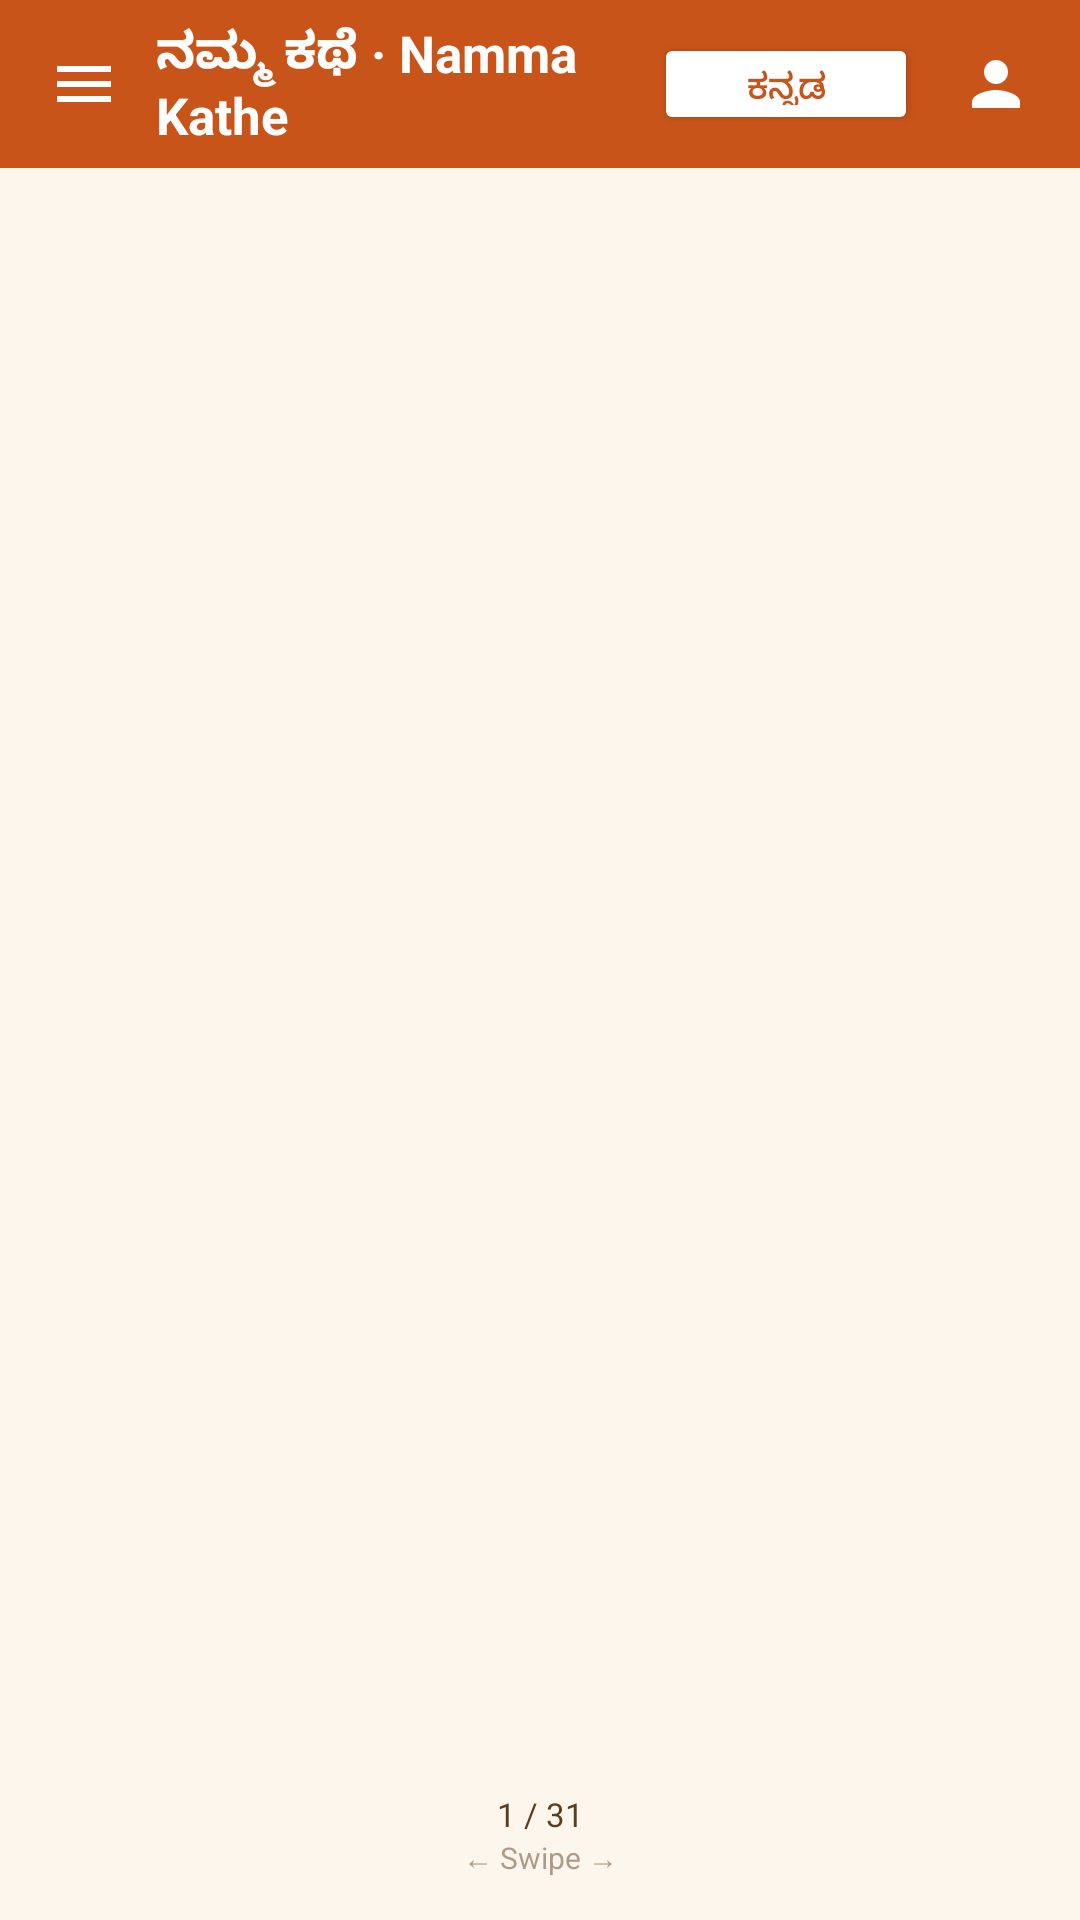

Named icons in this screenshot (1080*1920) and their bounding boxes, (x1, y1, x2, y2):
District Menu: (57, 66, 111, 102)
Profile: (972, 60, 1020, 108)
